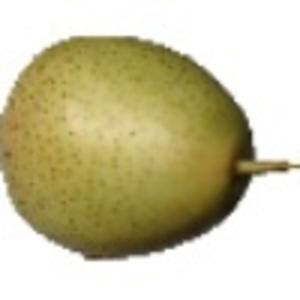pera: (1, 1, 300, 263)
